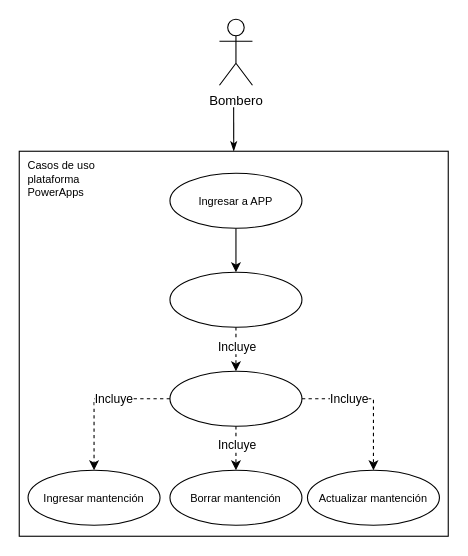
The diagram is 468 pixels wide and 556 high, and some of its shapes have lost their labels. The centre of each missing label's shape, as x and y in pixels:
Gestionar mantenciones: (x=235, y=398)
Ver mantenciones: (x=235, y=299)
